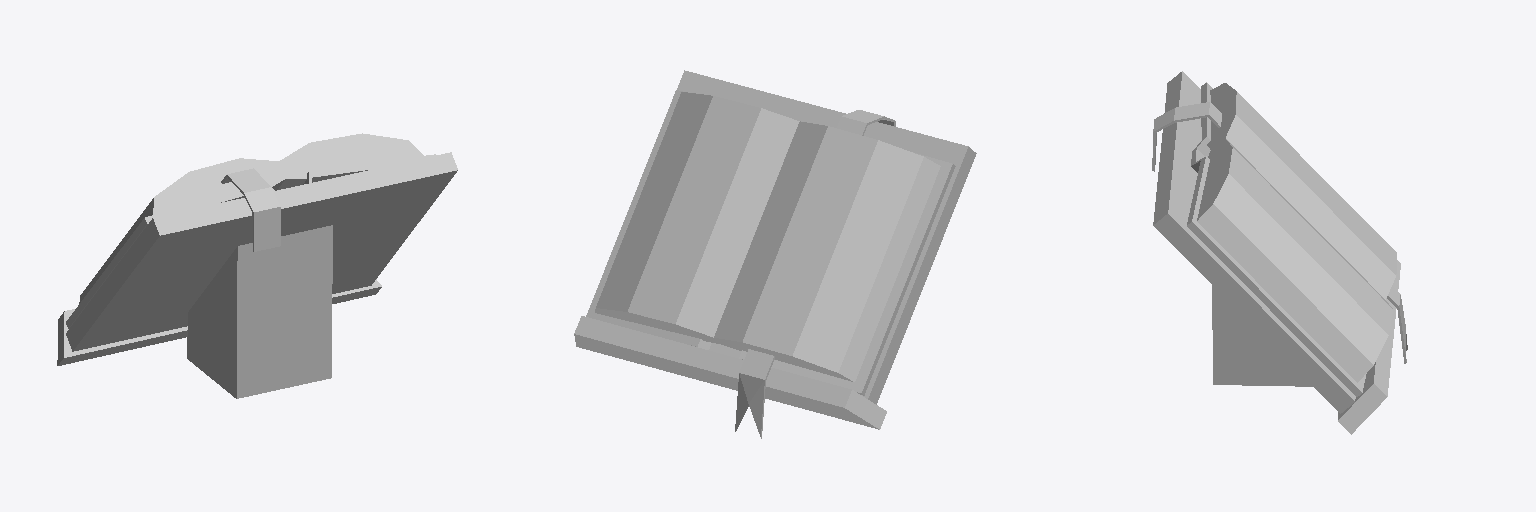
File: rbook.obj
3 renders of one model, left to right at view 1: azimuth 30°, elevation 25°; view 2: azimuth 150°, elevation 25°; view 3: azimuth 270°, elevation 25°, orthographic.
Parts seen in each view (by area): view 1: Book group2 initialShadingGroup initialShadingGroup1 initialShad; view 2: Book group2 initialShadingGroup initialShadingGroup1 initialShad; view 3: Book group2 initialShadingGroup initialShadingGroup1 initialShad.
Boxes of the visible parts, x1,y1,x2,y2 form: Book group2 initialShadingGroup initialShadingGroup1 initialShad: [57, 133, 457, 398]; Book group2 initialShadingGroup initialShadingGroup1 initialShad: [574, 70, 976, 438]; Book group2 initialShadingGroup initialShadingGroup1 initialShad: [1152, 71, 1407, 434].
Bounding box in the file's own units: 2.51 × 1.9 × 1.78.